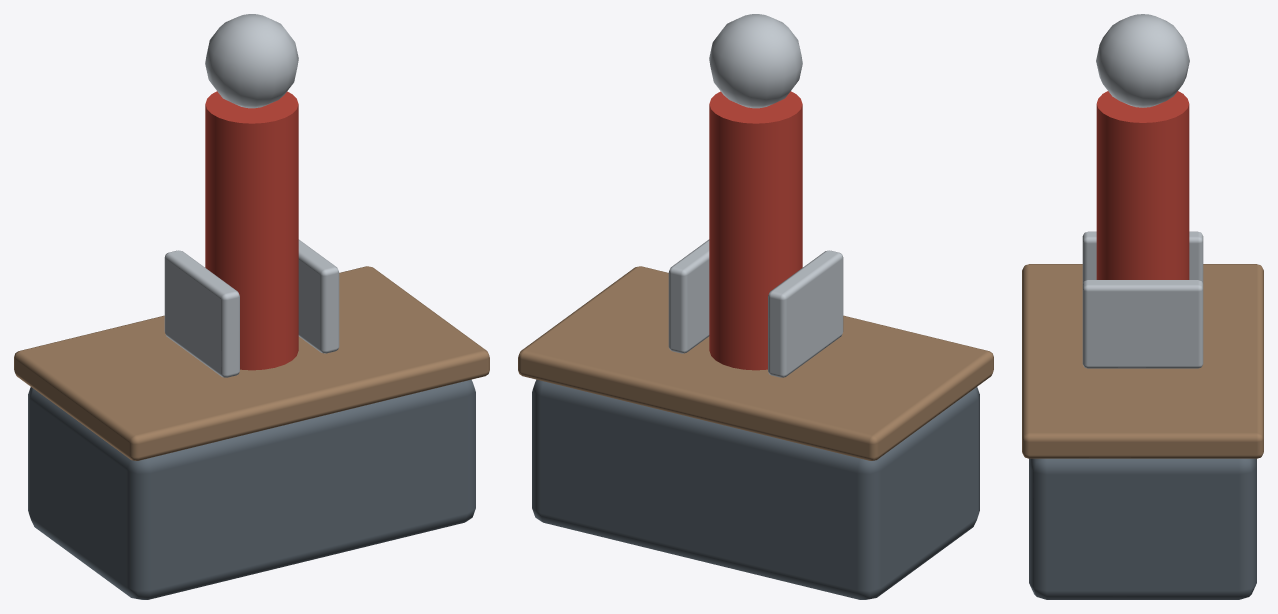
The model's file is arena-shooter-map-kit-ammo-rocket-63339306__23121.glb.
The picture shows the model from 3 angles, left to right: view 1: azimuth 30°, elevation 25°; view 2: azimuth 150°, elevation 25°; view 3: azimuth 270°, elevation 25°; orthographic projection.
Parts seen in each view (by area): view 1: ammo-rocket; view 2: ammo-rocket; view 3: ammo-rocket.
Boxes of the visible parts, x1,y1,x2,y2 form: ammo-rocket: [14, 14, 489, 599]; ammo-rocket: [518, 14, 993, 599]; ammo-rocket: [1022, 14, 1263, 599].
Size of the model in its own units: 0.58 by 0.782 by 0.34.
